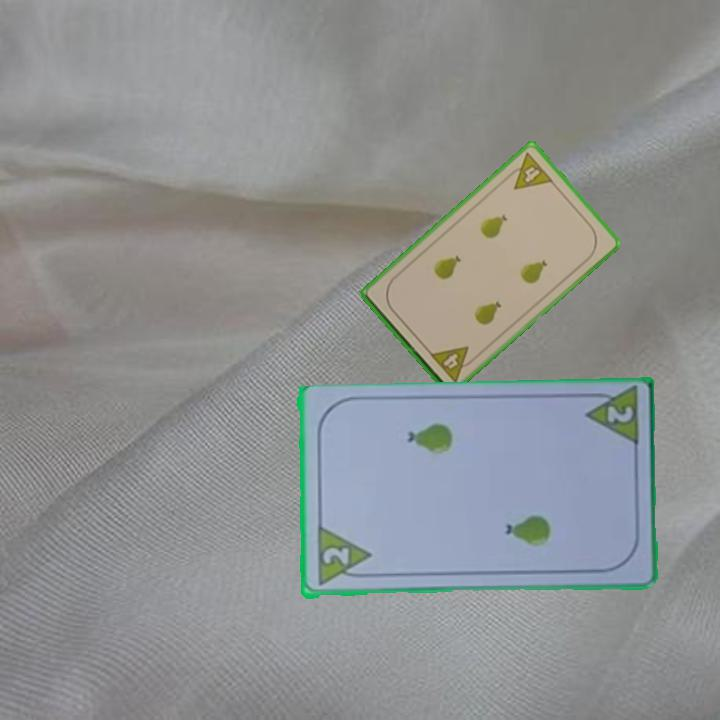2p: (580, 386, 641, 451), (313, 525, 373, 589)
4p: (501, 149, 556, 192), (426, 342, 479, 385)
